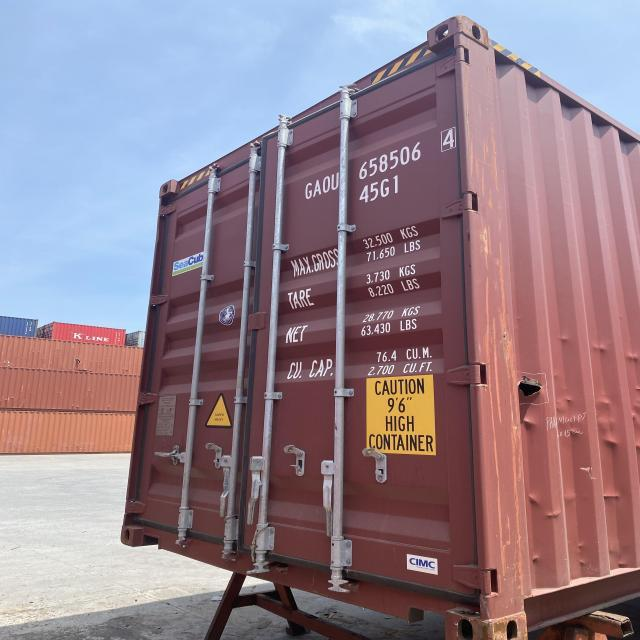hole: (516, 376, 543, 409)
